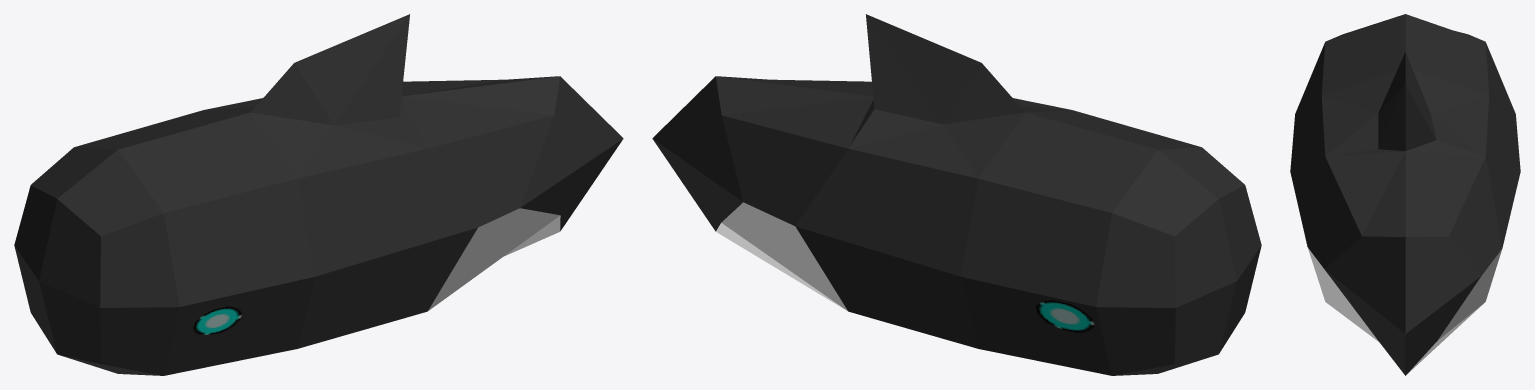
File: Whale Body 1.fbx
The picture shows the model from 3 angles, left to right: view 1: azimuth 30°, elevation 25°; view 2: azimuth 150°, elevation 25°; view 3: azimuth 270°, elevation 25°; orthographic projection. The views are drawn at different scales.
Parts seen in each view (by area): view 1: Whale Body; view 2: Whale Body; view 3: Whale Body.
Boxes of the visible parts, x1,y1,x2,y2 form: Whale Body: (14,14,623,375); Whale Body: (652,14,1261,375); Whale Body: (1290,14,1520,375).
Bounding box in the file's own units: 4.79 × 2.3 × 1.83.
Materials: 1 (1 with a texture image).
